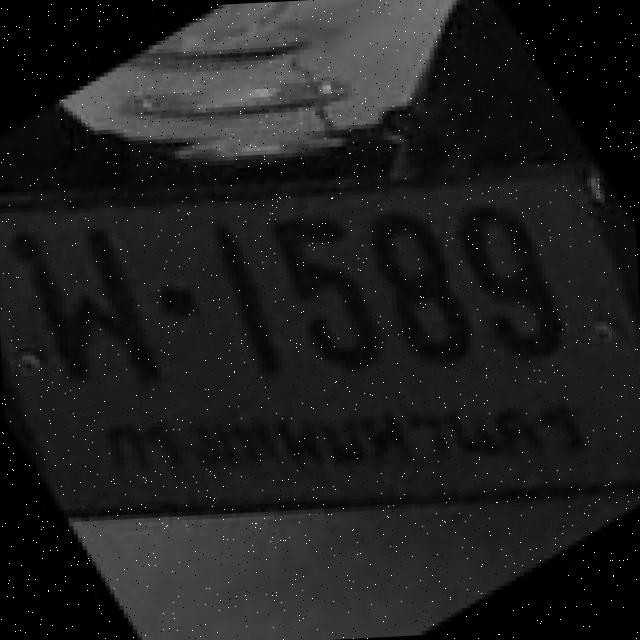37PhorPhueng: (1, 209, 172, 399)
